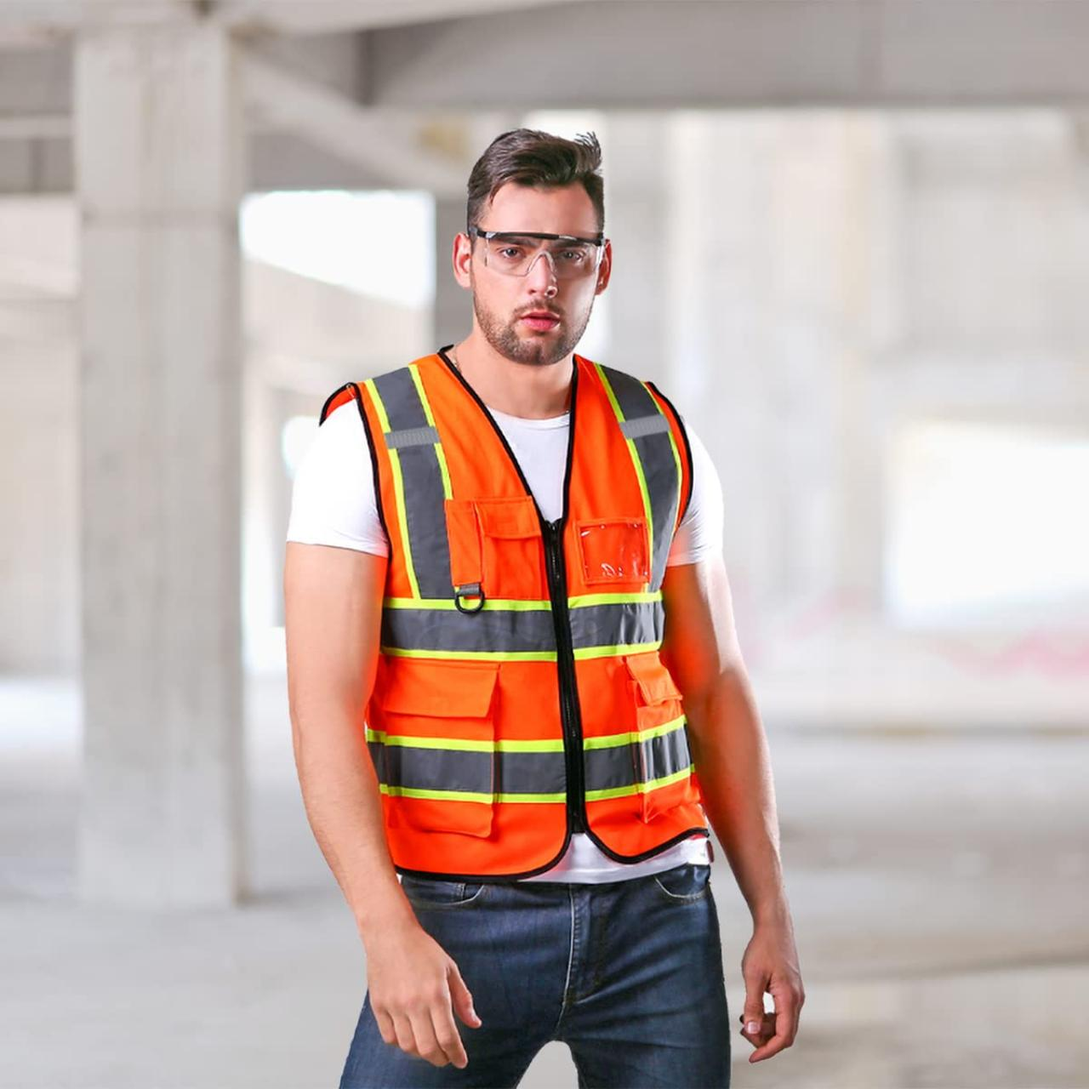Person: (248, 100, 807, 1089)
Safety_Vest: (306, 355, 715, 871)
